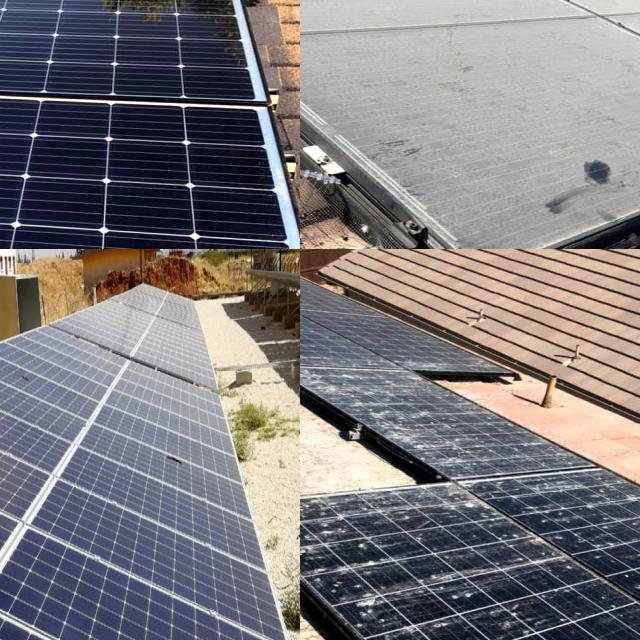bird: (315, 375, 500, 448), (438, 563, 583, 640), (300, 496, 381, 607), (408, 501, 578, 549)
crack: (0, 64, 300, 249), (23, 458, 300, 640), (27, 412, 266, 582), (0, 512, 300, 640), (0, 0, 300, 124), (76, 400, 300, 550), (0, 407, 168, 591), (0, 368, 128, 537), (0, 0, 294, 59), (0, 332, 107, 482), (0, 337, 94, 503)
dust: (440, 32, 640, 201), (320, 54, 428, 125), (300, 0, 441, 36), (300, 0, 429, 33), (392, 0, 566, 16), (536, 0, 640, 24)
